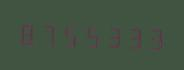eight: (17, 17, 37, 48)
five: (59, 18, 79, 49), (80, 19, 100, 50)
seven: (38, 18, 58, 48)
three: (101, 20, 121, 51), (143, 21, 163, 52), (122, 21, 142, 51)
